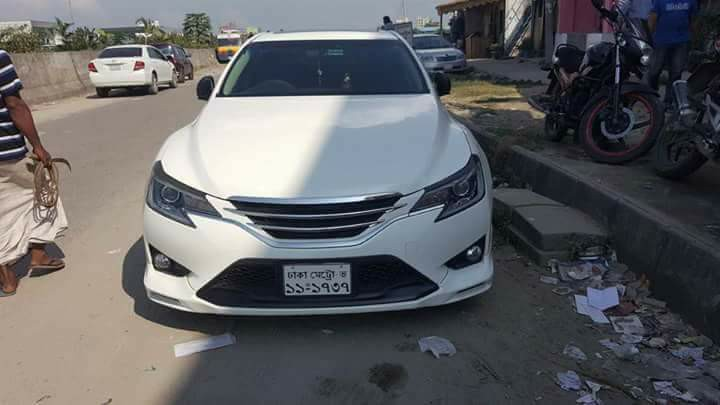registration_plate: (282, 263, 351, 296)
